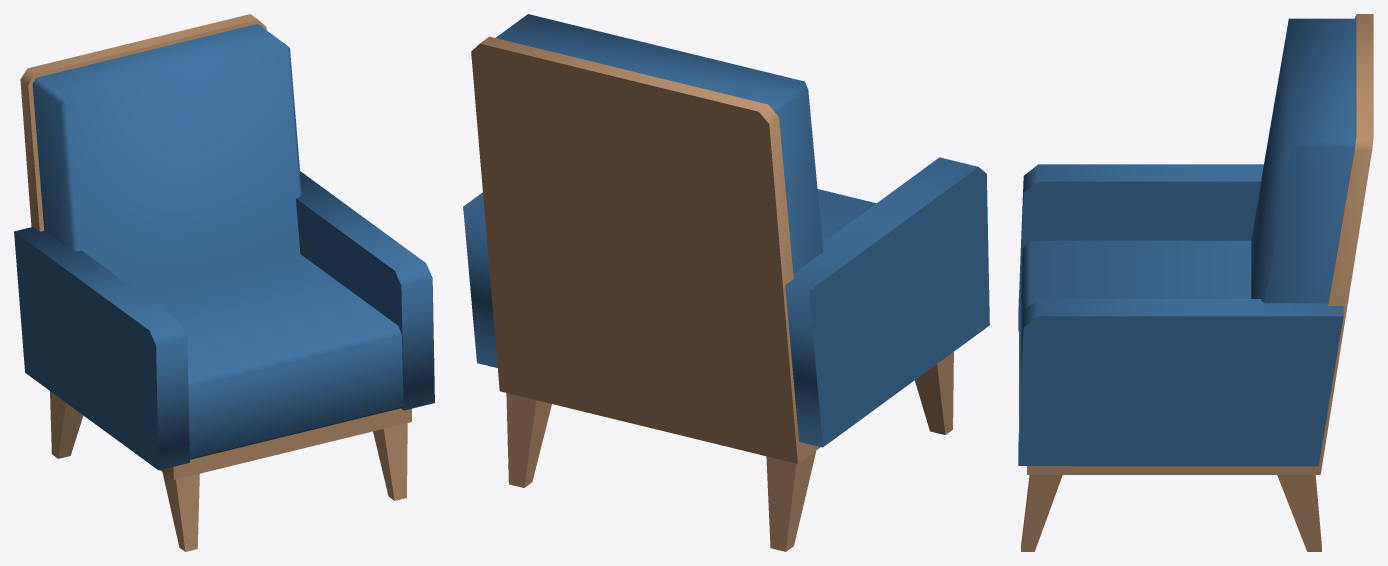
File: sofa1.FBX
3 renders of one model, left to right at view 1: azimuth 30°, elevation 25°; view 2: azimuth 150°, elevation 25°; view 3: azimuth 270°, elevation 25°, orthographic. The views are drawn at different scales.
Visible parts, largest first — view 1: sofa1; view 2: sofa1; view 3: sofa1.
Boxes of the visible parts, left/top/right/bottom form: sofa1: left=14, top=14, right=434, bottom=551; sofa1: left=463, top=14, right=989, bottom=551; sofa1: left=1018, top=14, right=1373, bottom=551.
Size of the model in its own units: 83.51 by 107 by 82.62.
Materials: 1 (1 with a texture image).
